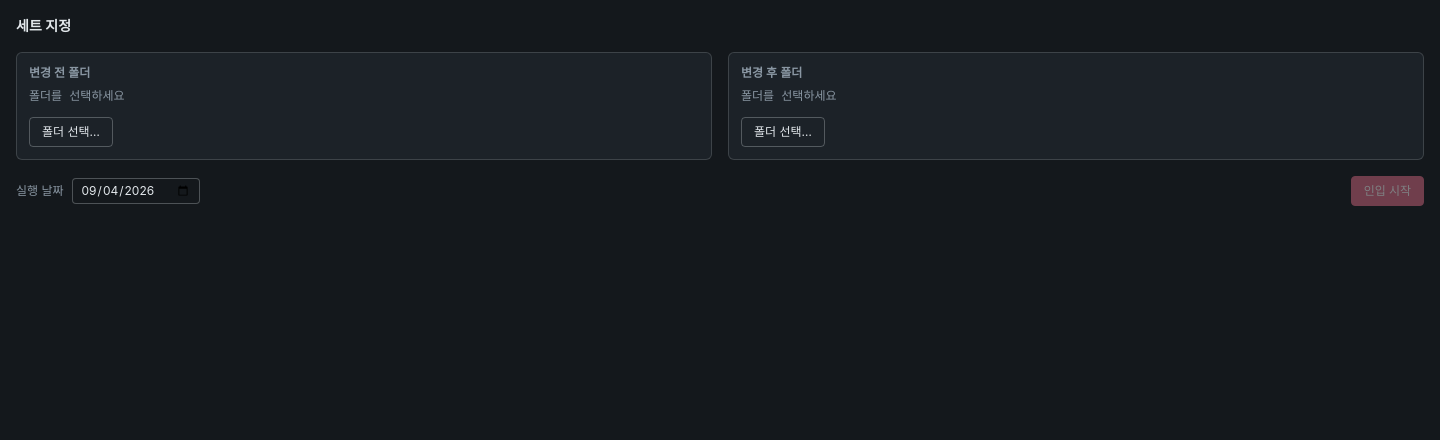
SetScreen › picking both folders enables 인입 시작, and clicking it drives ingest → frames → the summary card
The width and height of the screenshot is (1440, 440).
Click the button "폴더 선택…" below "변경 전 폴더": (71, 132) [29,117,113,147]
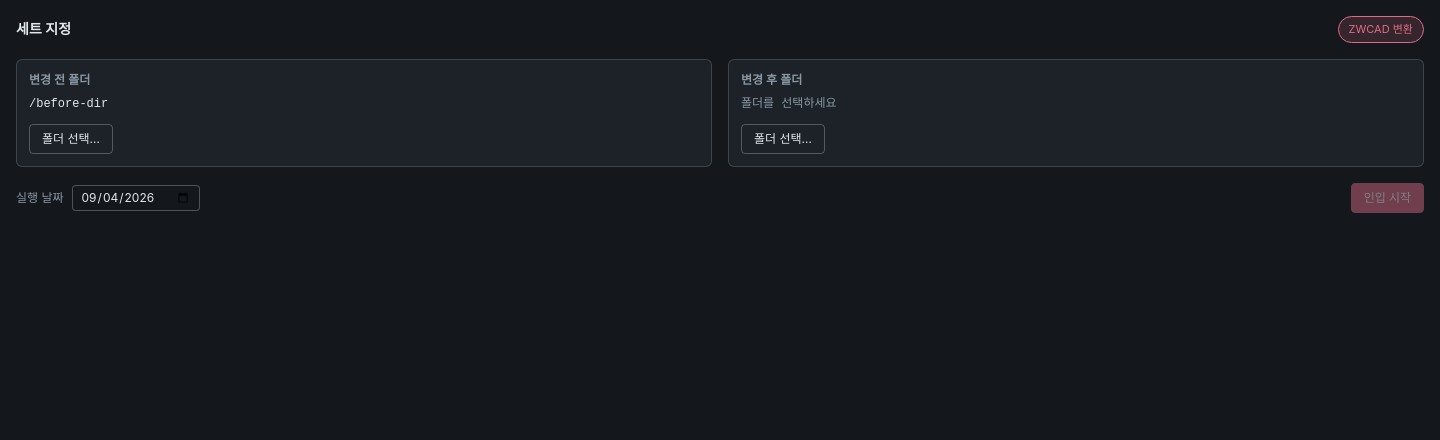
Expected: the text "/before-dir" is shown, [29,96,108,110]
Click the button "폴더 선택…" below "폴더를 선택하세요": (783, 138) [741,124,825,154]
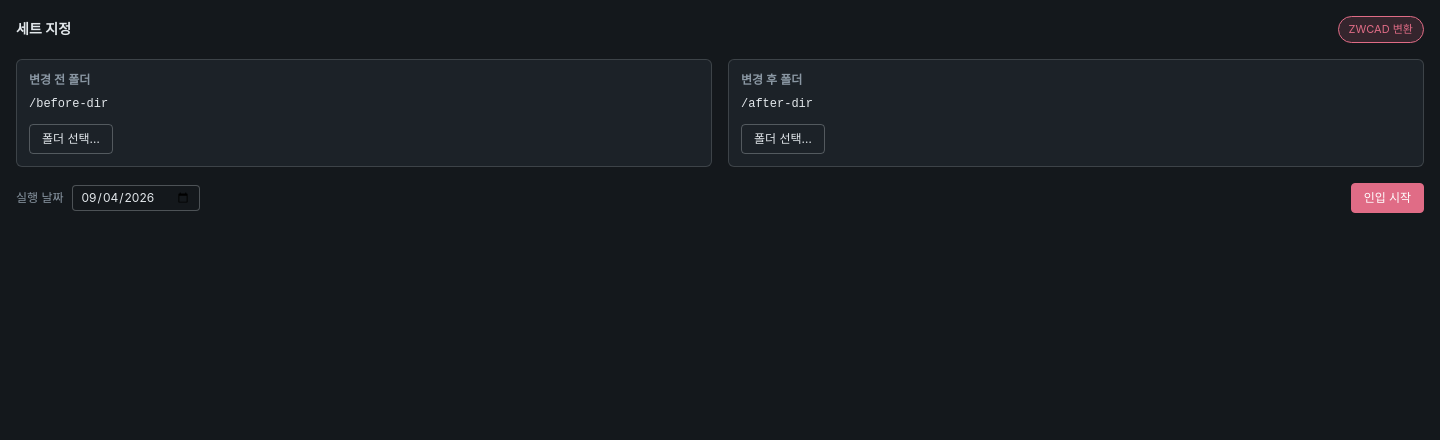
Expected: the text "/after-dir" is shown, [741,96,813,110]
Expected: the button "인입 시작" is enabled
Click the button "인입 시작": (1387, 198) [1351,182,1424,212]
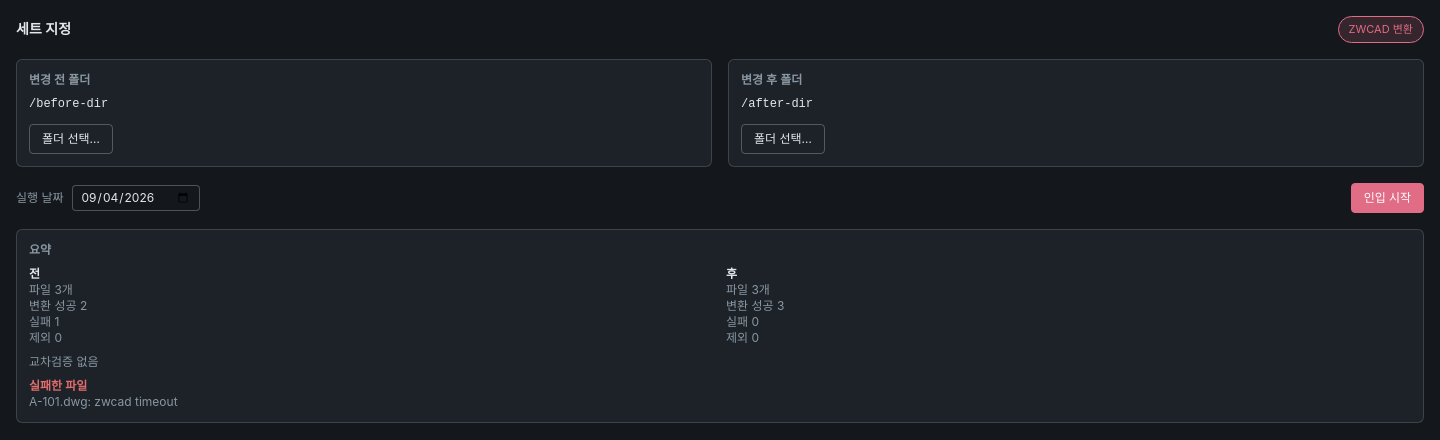
Expected: the text "파일 3개" is shown 2 times, [29,282,73,296]; [726,282,770,296]
Expected: the heading "실패한 파일" is shown, [29,378,87,392]
Expected: the list item "A-101.dwg: zwcad timeout" is shown, [29,394,178,408]
